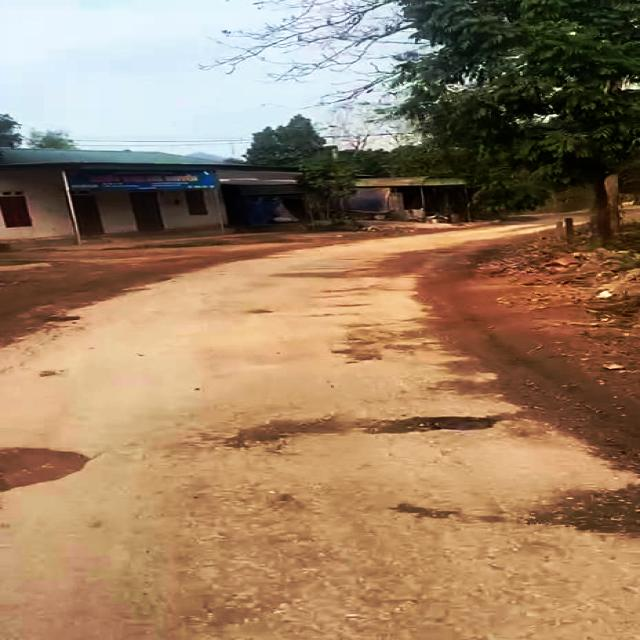pothole: (0, 438, 97, 497), (353, 412, 505, 438)
